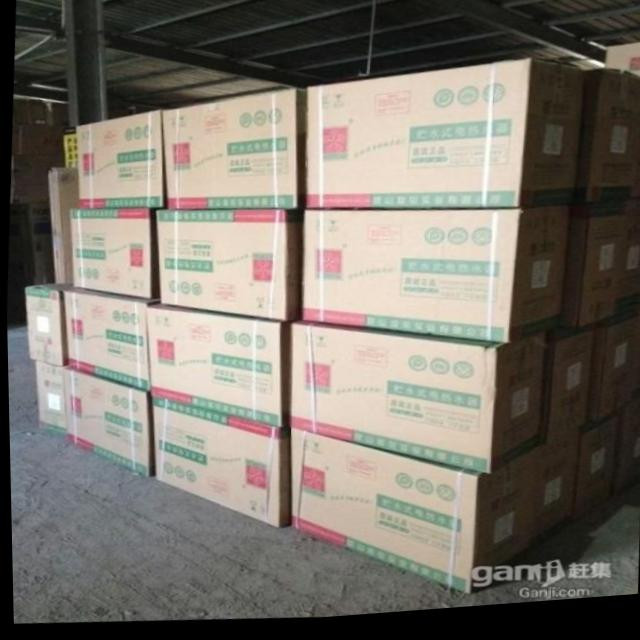box: (303, 66, 585, 214), (288, 433, 529, 602), (289, 325, 543, 482), (301, 211, 569, 353), (151, 396, 288, 533), (145, 307, 290, 432), (161, 93, 302, 213), (157, 212, 302, 325), (61, 366, 152, 479), (64, 290, 159, 392), (573, 76, 640, 210), (76, 113, 165, 210), (69, 209, 162, 301), (558, 210, 624, 335), (529, 439, 577, 557), (544, 337, 588, 453), (591, 323, 632, 431), (23, 285, 70, 368), (575, 423, 612, 526), (46, 168, 76, 284), (616, 209, 640, 326), (613, 407, 640, 501), (34, 362, 63, 435), (631, 131, 640, 209)
